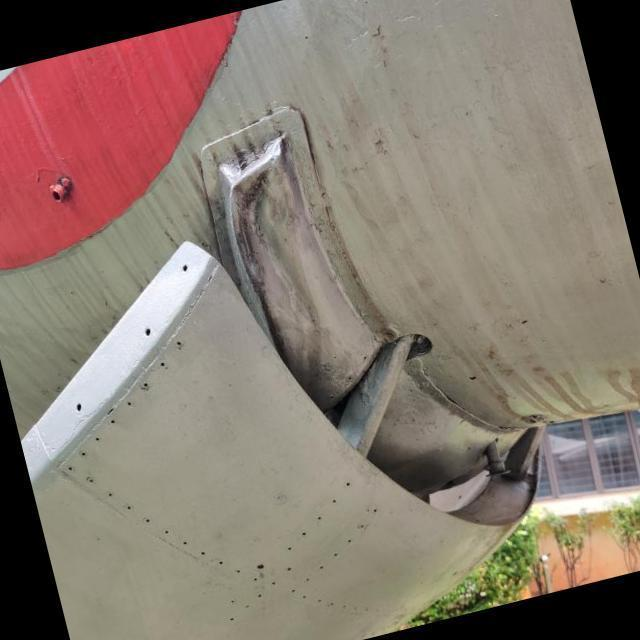Dent: (197, 122, 361, 378)
